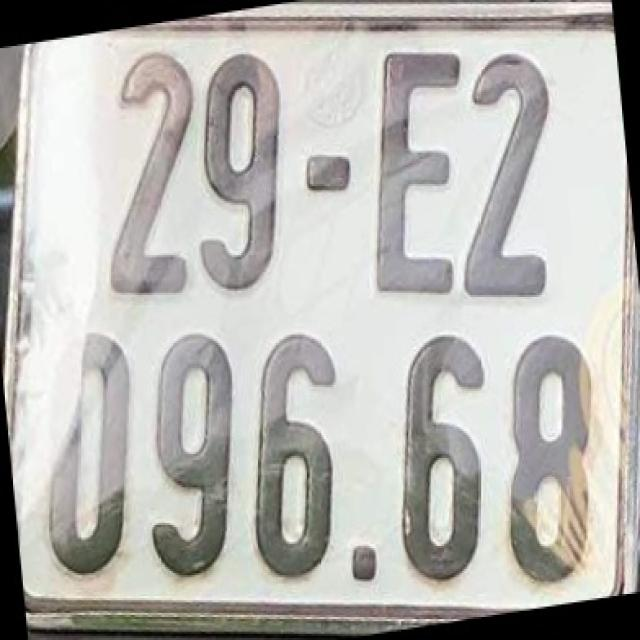0: (41, 326, 134, 578)
2: (461, 45, 558, 302), (101, 44, 196, 301)
6: (394, 325, 489, 585), (251, 326, 342, 580)
8: (503, 326, 597, 584)
9: (142, 326, 237, 578), (194, 44, 289, 295)
E: (367, 40, 462, 299)
